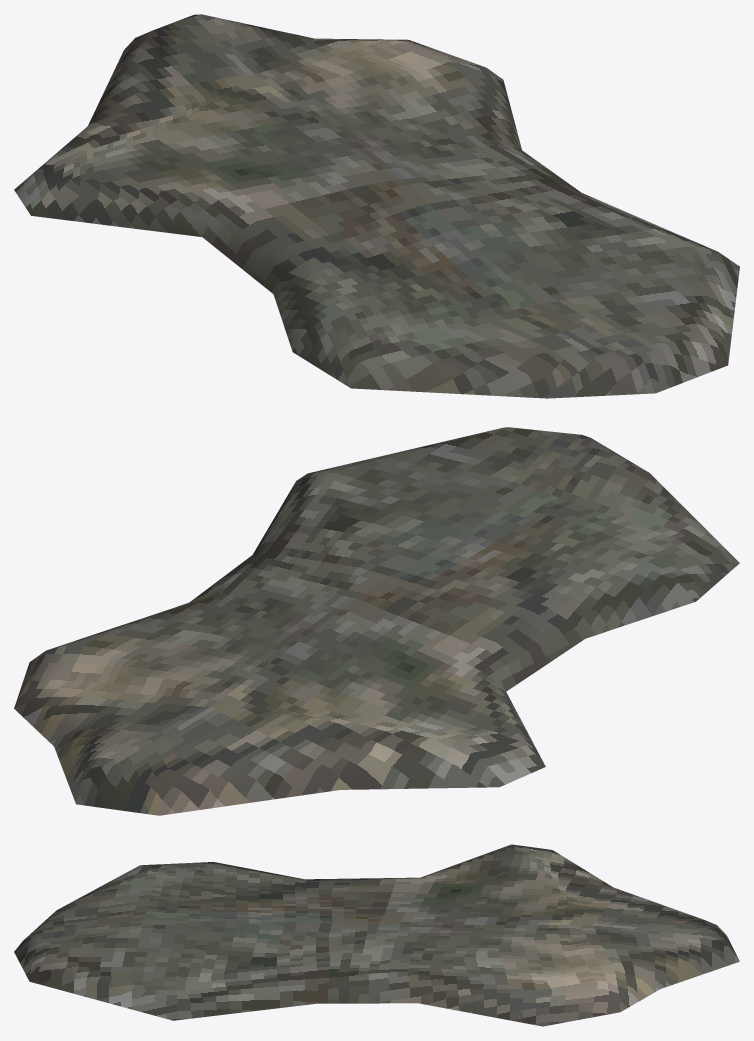
The model's file is con_gen_organic_hide_wooly_l2.fbx.
3 renders of one model, top to bottom at view 1: azimuth 30°, elevation 25°; view 2: azimuth 150°, elevation 25°; view 3: azimuth 270°, elevation 25°, orthographic. The views are drawn at different scales.
Visible parts, largest first — view 1: mesh_node; view 2: mesh_node; view 3: mesh_node.
Boxes of the visible parts, <box> form: mesh_node: <box>14,14,739,398</box>; mesh_node: <box>14,427,739,815</box>; mesh_node: <box>14,844,739,1026</box>.
Size of the model in its own units: 1.14 by 0.0774 by 1.97.
